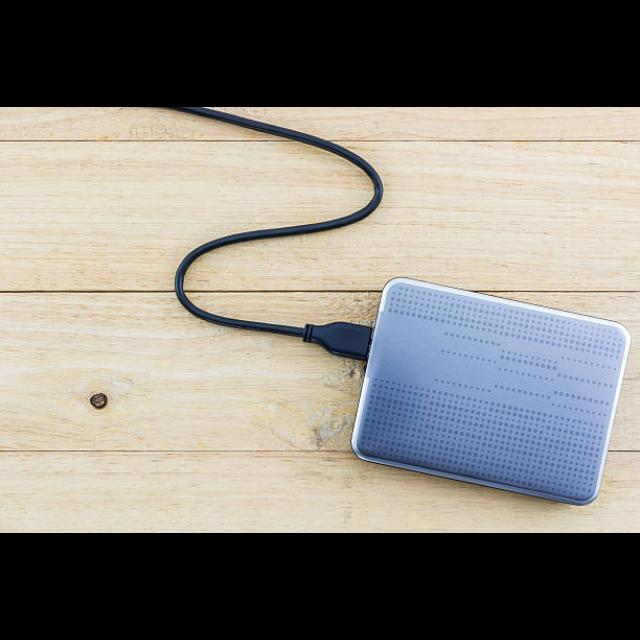HDD: (350, 279, 631, 508)
